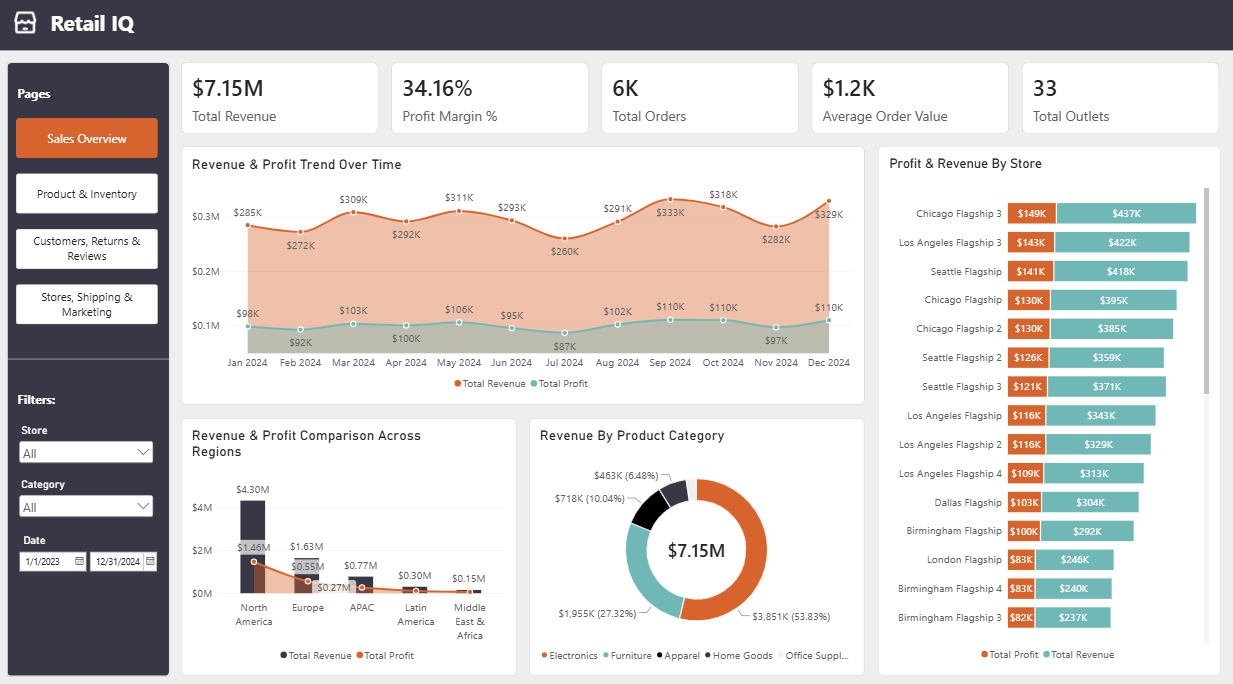

Layout of this report page (visuals, bound fields, positions):
{"tool":"powerbi","page":{"name":"Sales Overview","canvas":[1920,1080],"ordinal":0},"visuals":[{"type":"shape","box":[0,0,1920.7,85.9],"z":0},{"type":"textbox","box":[86,20,478,62],"z":1000},{"type":"cardVisual","fields":{"Data":["_Measures.Total Revenue","_Measures.Profit Margin %","_Measures.Total Orders","_Measures.Average Order Value","Count(Dim_Store.StoreID)"]},"box":[287.5,105,1612.5,110],"z":2000},{"type":"lineClusteredColumnComboChart","title":"Revenue & Profit Comparison Across Regions","fields":{"Category":["Dim_Region.RegionName"],"Y":["_Measures.Total Revenue"],"Y2":["_Measures.Total Profit"]},"box":[287.5,655,520,400],"z":3000},{"type":"lineChart","title":"Revenue & Profit Trend Over Time","fields":{"Category":["Dim_Date.YearMonth"],"Y":["_Measures.Total Revenue","_Measures.Total Profit"]},"box":[287.5,235.3,1060,400],"z":4000},{"type":"donutChart","title":"Revenue By Product Category","fields":{"Category":["Dim_Product.Category"],"Y":["_Measures.Total Revenue"]},"box":[827.5,655,520,400],"z":5000},{"type":"barChart","title":"Profit & Revenue By Store","fields":{"Category":["Dim_Store.StoreName"],"Y":["_Measures.Total Profit","_Measures.Total Revenue"]},"box":[1370,235,530,820],"z":6000},{"type":"shape","box":[17.5,105,252.5,952.5],"z":7000},{"type":"pageNavigator","box":[32.5,190,220,322.5],"z":8000},{"type":"slicer","fields":{"Values":["Dim_Store.StoreName"]},"box":[33.1,666,217.5,62.5],"z":9000},{"type":"textbox","box":[36,613,122,35],"z":10000},{"type":"slicer","fields":{"Values":["Dim_Product.Category"]},"box":[33.1,749.8,217.5,62.5],"z":11000},{"type":"textbox","box":[34.6,138.5,122.3,34.6],"z":12000},{"type":"shape","box":[17.7,540,252.3,50],"z":13000},{"type":"image","box":[23.1,26.2,46.9,33.8],"z":14000},{"type":"slicer","title":"Date","fields":{"Values":["Dim_Date.Date"]},"box":[30,858.3,236.7,95],"z":15000},{"type":"textbox","box":[45,835,85,23.3],"z":16000}]}

Visuals, with their boxes on the page's 1920x1080 design canvas (x1, y1, x2, y2). These are canvas units, not pixel positions in the 1233x684 screenshot, which may show the page scaled, cropped or inside an application window:
shape: {"left": 0, "top": 0, "right": 1921, "bottom": 86}
textbox: {"left": 86, "top": 20, "right": 564, "bottom": 82}
cardVisual - _Measures.Total Revenue x _Measures.Profit Margin %: {"left": 288, "top": 105, "right": 1900, "bottom": 215}
"Revenue & Profit Comparison Across Regions" lineClusteredColumnComboChart: {"left": 288, "top": 655, "right": 808, "bottom": 1055}
"Revenue & Profit Trend Over Time" lineChart: {"left": 288, "top": 235, "right": 1348, "bottom": 635}
"Revenue By Product Category" donutChart: {"left": 828, "top": 655, "right": 1348, "bottom": 1055}
"Profit & Revenue By Store" barChart: {"left": 1370, "top": 235, "right": 1900, "bottom": 1055}
shape: {"left": 18, "top": 105, "right": 270, "bottom": 1058}
pageNavigator: {"left": 32, "top": 190, "right": 252, "bottom": 512}
slicer - Dim_Store.StoreName: {"left": 33, "top": 666, "right": 251, "bottom": 728}
textbox: {"left": 36, "top": 613, "right": 158, "bottom": 648}
slicer - Dim_Product.Category: {"left": 33, "top": 750, "right": 251, "bottom": 812}
textbox: {"left": 35, "top": 138, "right": 157, "bottom": 173}
shape: {"left": 18, "top": 540, "right": 270, "bottom": 590}
image: {"left": 23, "top": 26, "right": 70, "bottom": 60}
"Date" slicer: {"left": 30, "top": 858, "right": 267, "bottom": 953}
textbox: {"left": 45, "top": 835, "right": 130, "bottom": 858}
